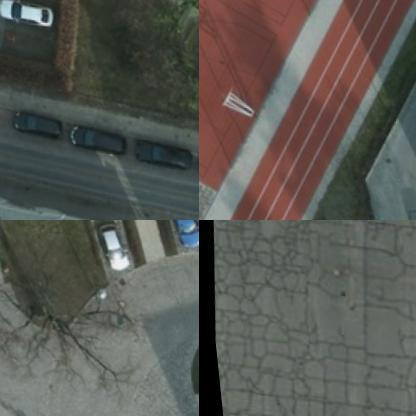car: (0, 95, 62, 141), (91, 220, 131, 271), (60, 127, 119, 157), (122, 140, 181, 168), (0, 0, 50, 24), (165, 220, 198, 250)
